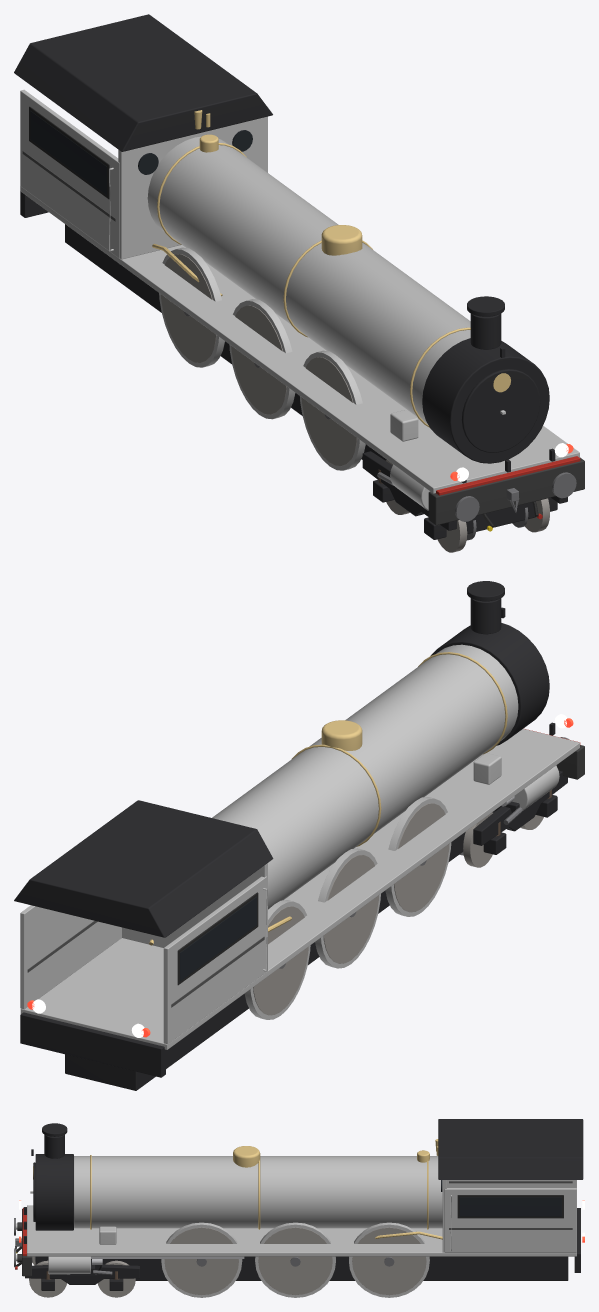
Rendered from train_steam_big.glb.
3 views of the same model, one above another, from view 1: azimuth 30°, elevation 25°; view 2: azimuth 150°, elevation 25°; view 3: azimuth 270°, elevation 25° (orthographic). The views are drawn at different scales.
Visible parts, largest first — view 1: SM_train_steam_big; view 2: SM_train_steam_big; view 3: SM_train_steam_big.
Part boxes in pixels (bbox=[...]): SM_train_steam_big: bbox=[14, 14, 584, 552]; SM_train_steam_big: bbox=[14, 581, 584, 1090]; SM_train_steam_big: bbox=[14, 1119, 584, 1297].
Size of the model in its own units: 2.85 by 4 by 13.4.
